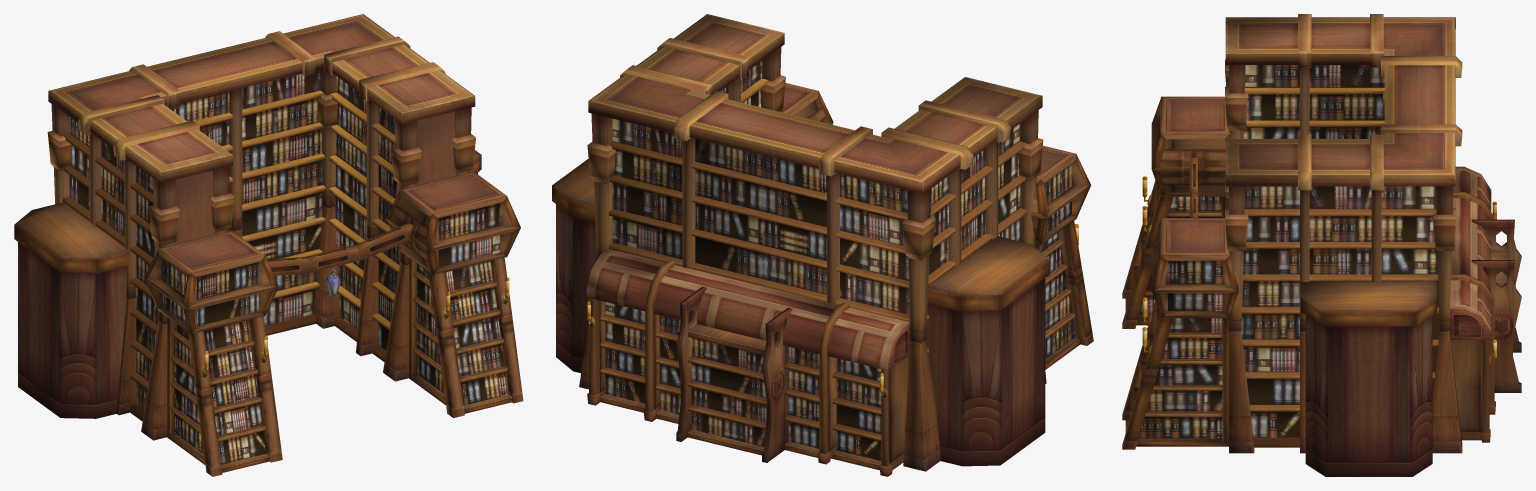
File: a_bookcase03.glb
3 renders of one model, left to right at view 1: azimuth 30°, elevation 25°; view 2: azimuth 150°, elevation 25°; view 3: azimuth 270°, elevation 25°, orthographic. The views are drawn at different scales.
Visible parts, largest first — view 1: a_bookcase03; view 2: a_bookcase03; view 3: a_bookcase03.
Part boxes in pixels (box(x1,y1,x2,y2)): a_bookcase03: box(14, 14, 523, 476); a_bookcase03: box(552, 14, 1093, 476); a_bookcase03: box(1122, 14, 1521, 476).
Size of the model in its own units: 6.96 by 4.29 by 5.56.
Materials: 4 (4 with a texture image).
